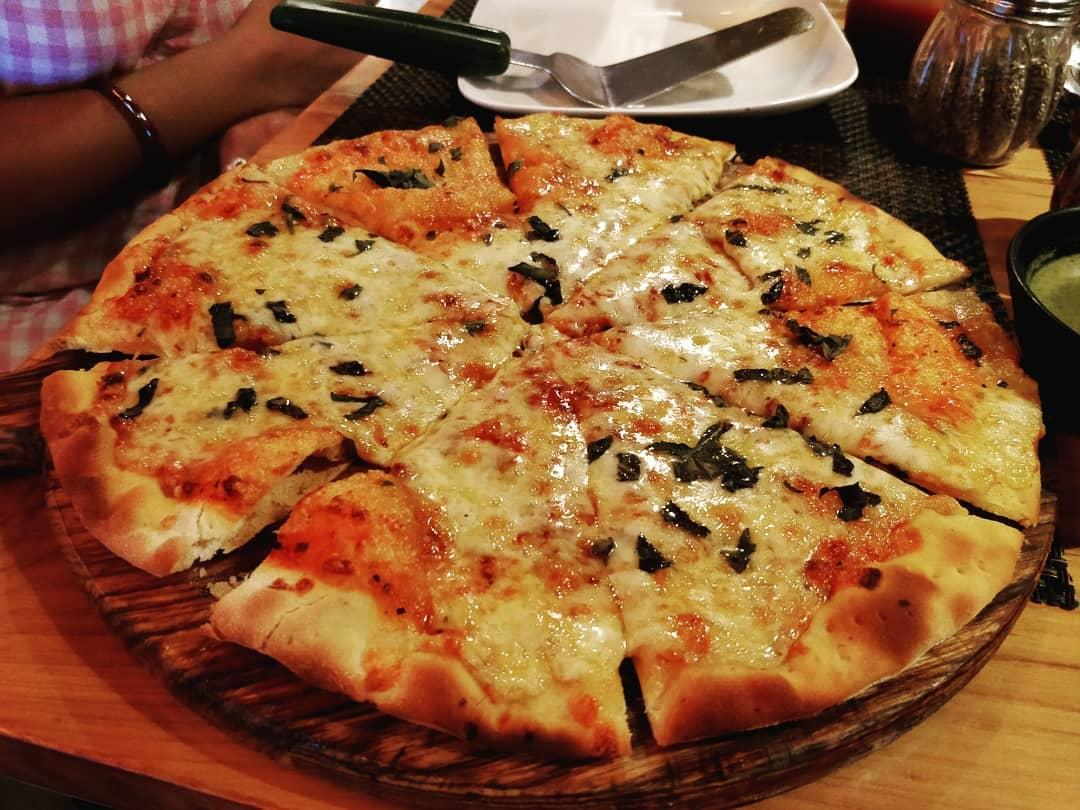Basil: (645, 410, 767, 498), (506, 247, 570, 327), (817, 473, 892, 536), (778, 313, 854, 364), (657, 485, 715, 543), (733, 355, 820, 393), (320, 383, 391, 429), (626, 519, 675, 585), (939, 316, 993, 375), (804, 427, 864, 480), (111, 373, 165, 430), (347, 160, 435, 194), (719, 519, 760, 578), (205, 292, 244, 353), (852, 375, 900, 422), (215, 380, 264, 425), (263, 384, 310, 426), (519, 207, 568, 247), (662, 272, 712, 309), (322, 350, 378, 383), (612, 444, 650, 490), (582, 528, 624, 568), (260, 292, 300, 332), (583, 428, 615, 477), (757, 262, 791, 308), (720, 211, 753, 256), (764, 397, 796, 439), (277, 198, 312, 234), (240, 213, 281, 242), (792, 213, 829, 243), (353, 231, 381, 264), (316, 217, 346, 247), (332, 279, 362, 306), (790, 261, 818, 289), (824, 223, 848, 253), (429, 152, 451, 182), (448, 139, 465, 169), (794, 241, 816, 264)
Pizza: (27, 99, 1055, 763)
